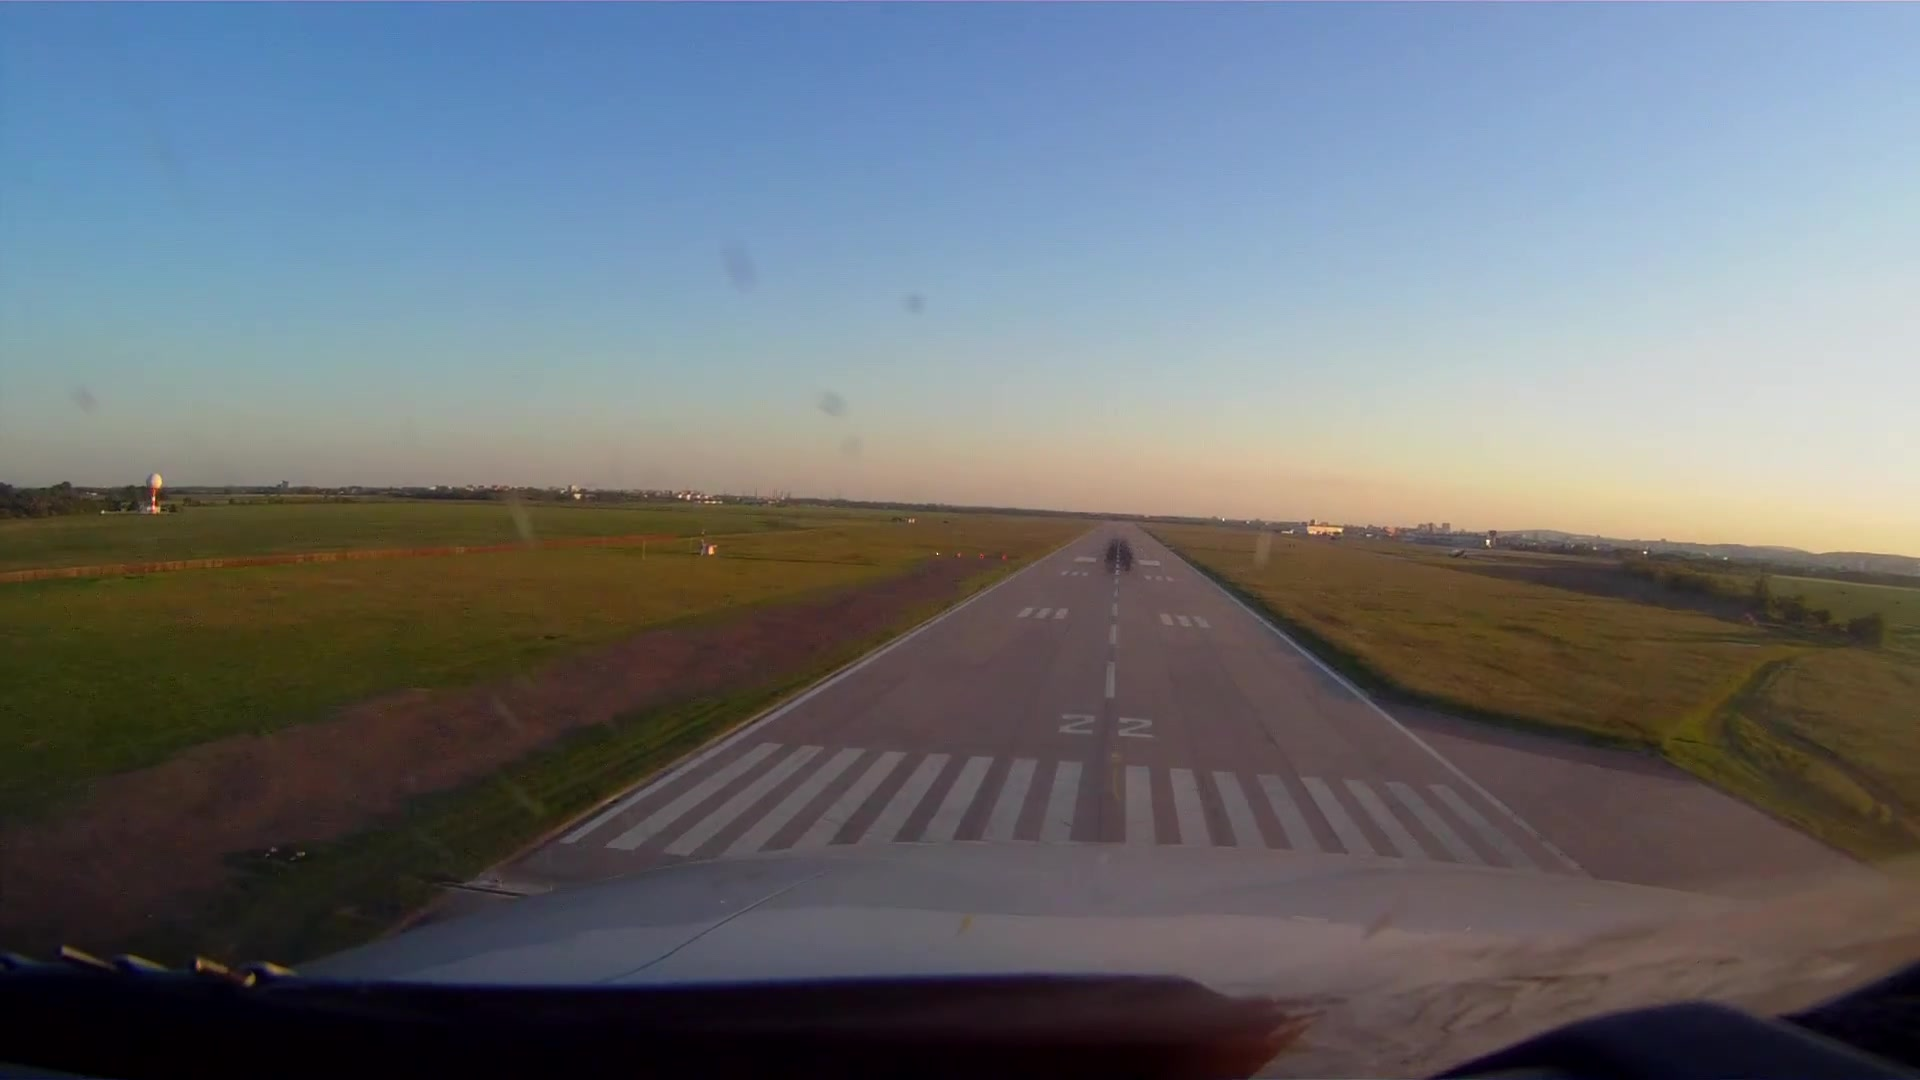entrance: (574, 729, 1565, 878)
runway: (508, 514, 1662, 968)
